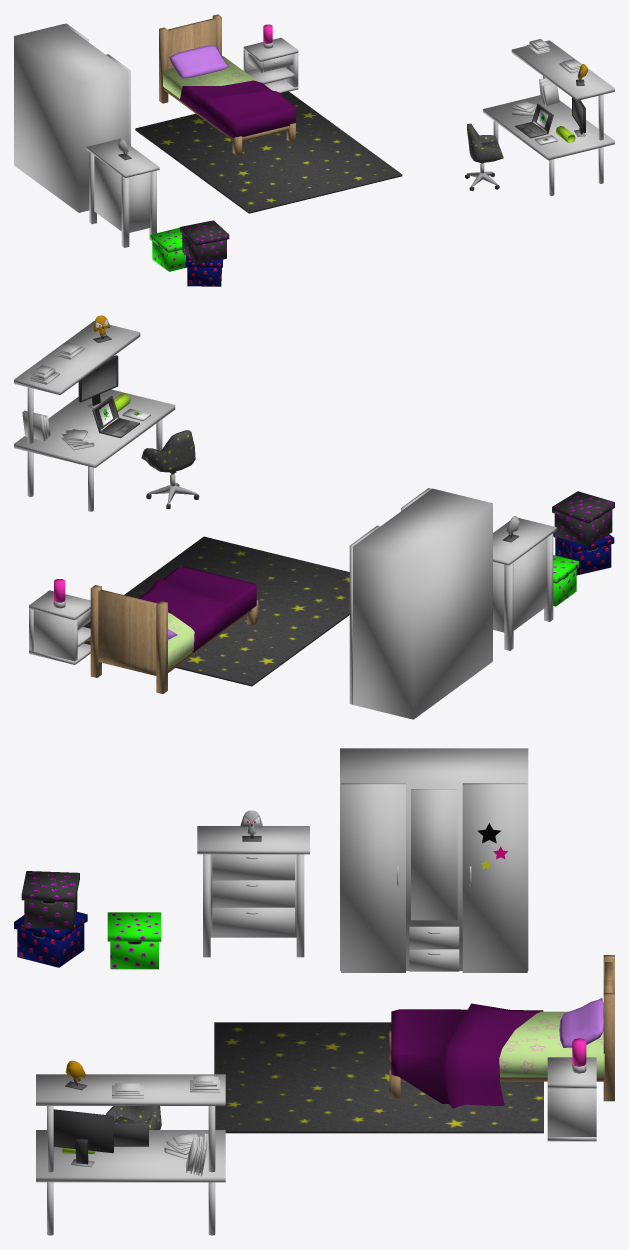
Rendered from Andrea_s_bedroom.fbx.
3 views of the same model, one above another, from view 1: azimuth 30°, elevation 25°; view 2: azimuth 150°, elevation 25°; view 3: azimuth 270°, elevation 25° (orthographic). The views are drawn at different scales.
Parts seen in each view (by area): view 1: Wardrobe, Carpet, Bed, Desk, Drawer, Bedside, Black, Chair, Green, Blue, PC, Books_2 (+1 smaller); view 2: Wardrobe, Carpet, Bed, Desk, Drawer, Bedside, Black, Chair, Blue, Screen, Green, PC (+1 smaller); view 3: Wardrobe, Carpet, Bed, Desk, Drawer, Bedside, Black, Green, Screen, Blue, Chair, PC (+1 smaller).
Boxes of the visible parts, box(x1,y1,x2,y2) form: Wardrobe: box(14, 23, 130, 212); Carpet: box(135, 91, 402, 213); Bed: box(159, 14, 295, 155); Desk: box(483, 40, 614, 195); Drawer: box(86, 138, 159, 247); Bedside: box(243, 37, 298, 92); Black: box(180, 220, 229, 264); Chair: box(465, 123, 503, 190); Green: box(150, 227, 186, 271); Blue: box(185, 255, 223, 286); PC: box(515, 103, 553, 138); Books_2: box(539, 78, 559, 105); Wardrobe: box(349, 488, 492, 719); Carpet: box(83, 536, 349, 686); Bed: box(90, 566, 258, 693); Desk: box(14, 321, 175, 511); Drawer: box(493, 518, 556, 650); Bedside: box(29, 590, 90, 664); Black: box(552, 491, 614, 546); Chair: box(141, 430, 199, 509); Blue: box(553, 532, 614, 575); Screen: box(78, 355, 118, 408); Green: box(553, 555, 579, 606); PC: box(92, 396, 139, 438); Wardrobe: box(340, 748, 528, 972); Carpet: box(214, 1022, 543, 1133); Bed: box(389, 955, 614, 1108); Desk: box(36, 1074, 225, 1235); Drawer: box(197, 826, 309, 957); Bedside: box(547, 1057, 596, 1141); Black: box(21, 871, 79, 929); Green: box(107, 912, 161, 969); Screen: box(53, 1109, 113, 1167); Blue: box(14, 911, 87, 967); Chair: box(105, 1106, 161, 1129); PC: box(114, 1124, 148, 1146).
Bounding box in the file's own units: 877 × 257 × 726.
